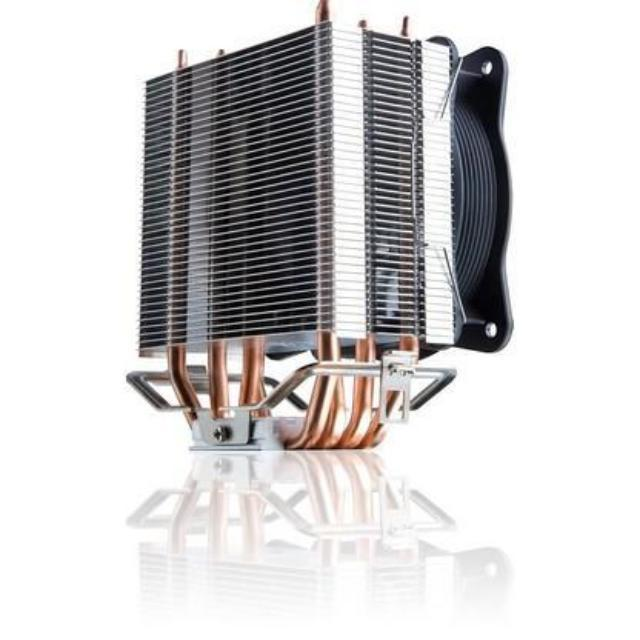CPU_Fan: (104, 0, 518, 457)
